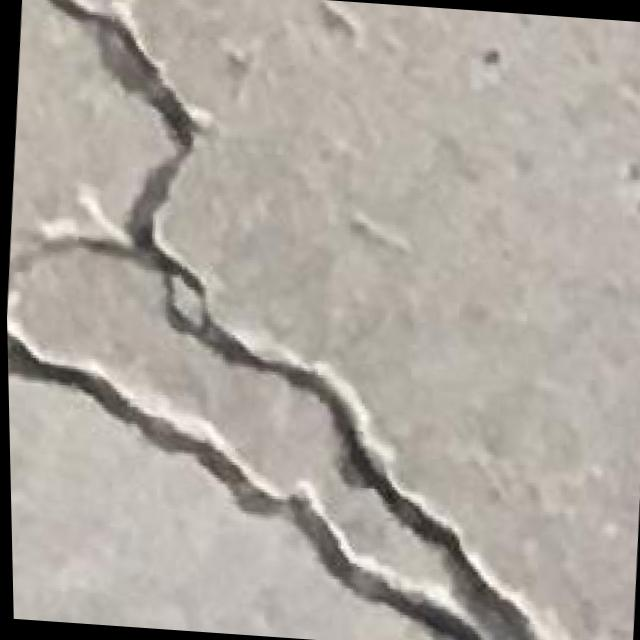Crack: (0, 0, 599, 640)
